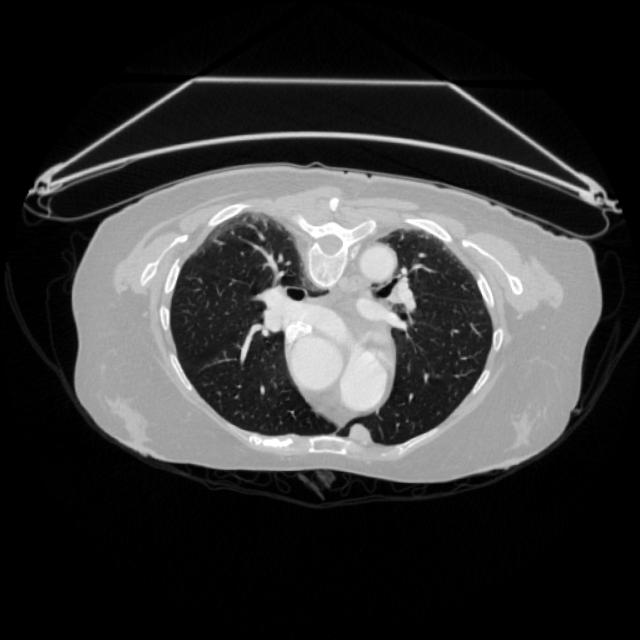nodule: (334, 410, 380, 456)
